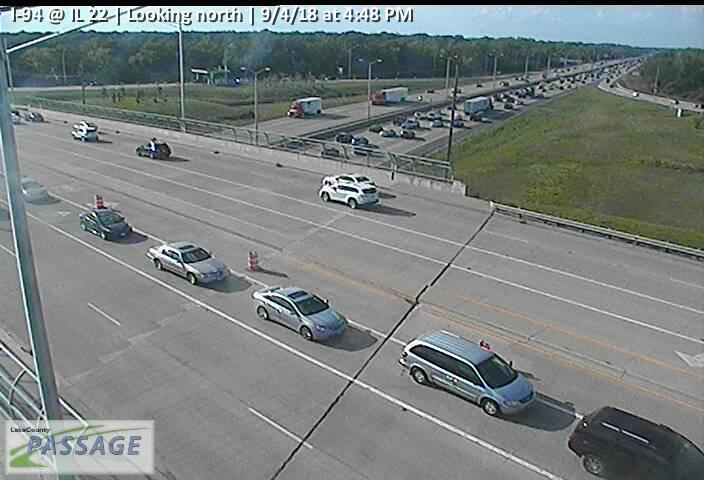SUV: (397, 328, 537, 418), (566, 404, 704, 480), (318, 183, 379, 208), (136, 142, 171, 160)
Sedan: (251, 283, 348, 342), (147, 243, 230, 284), (78, 208, 130, 240), (321, 173, 374, 190), (17, 178, 50, 205), (70, 122, 99, 142), (333, 131, 352, 143)
Truck: (287, 96, 321, 118), (371, 86, 408, 105), (463, 96, 493, 113)
